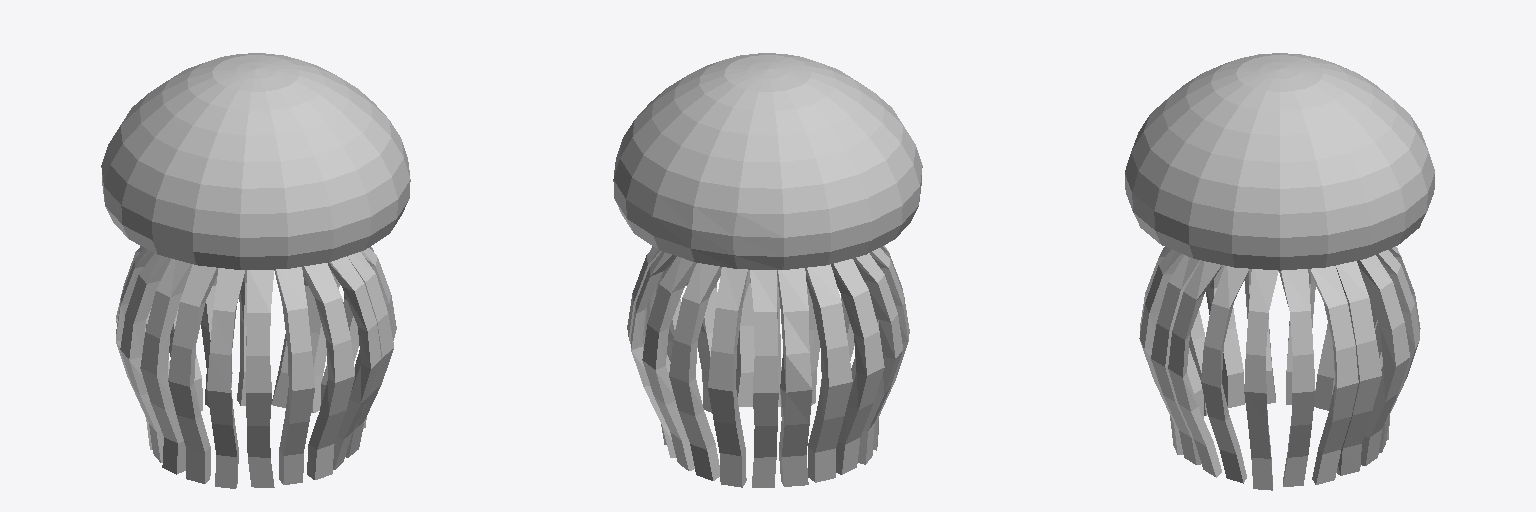
File: JellyAnimPartTwo.obj
3 renders of one model, left to right at view 1: azimuth 30°, elevation 25°; view 2: azimuth 150°, elevation 25°; view 3: azimuth 270°, elevation 25°, orthographic.
Parts seen in each view (by area): view 1: AnimPartOne1:AnimPartOne1 polySurface2; view 2: AnimPartOne1:AnimPartOne1 polySurface2; view 3: AnimPartOne1:AnimPartOne1 polySurface2.
Part boxes in pixels (left/top/right/bottom): AnimPartOne1:AnimPartOne1 polySurface2: left=101, top=53, right=410, bottom=488; AnimPartOne1:AnimPartOne1 polySurface2: left=613, top=53, right=922, bottom=487; AnimPartOne1:AnimPartOne1 polySurface2: left=1125, top=53, right=1434, bottom=490.
Size of the model in its own units: 3.12 by 4.14 by 3.12.